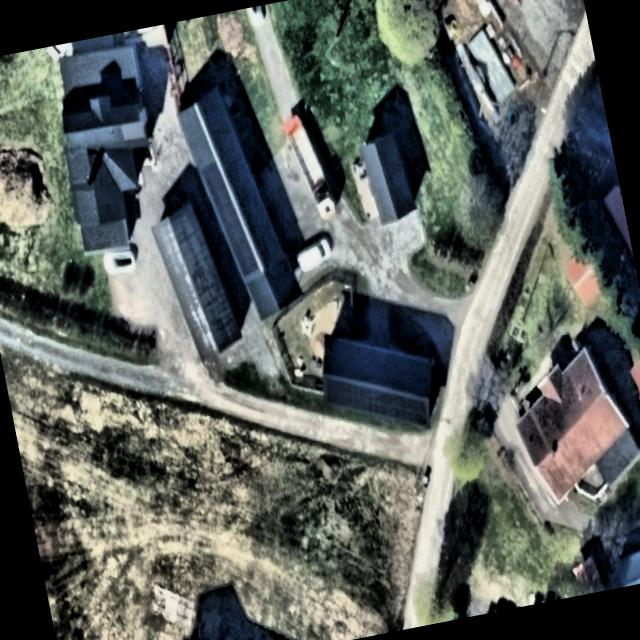roof_pv: (327, 373, 368, 428), (200, 159, 238, 213), (392, 384, 433, 431), (360, 379, 398, 429), (228, 242, 266, 284), (216, 207, 252, 249)
